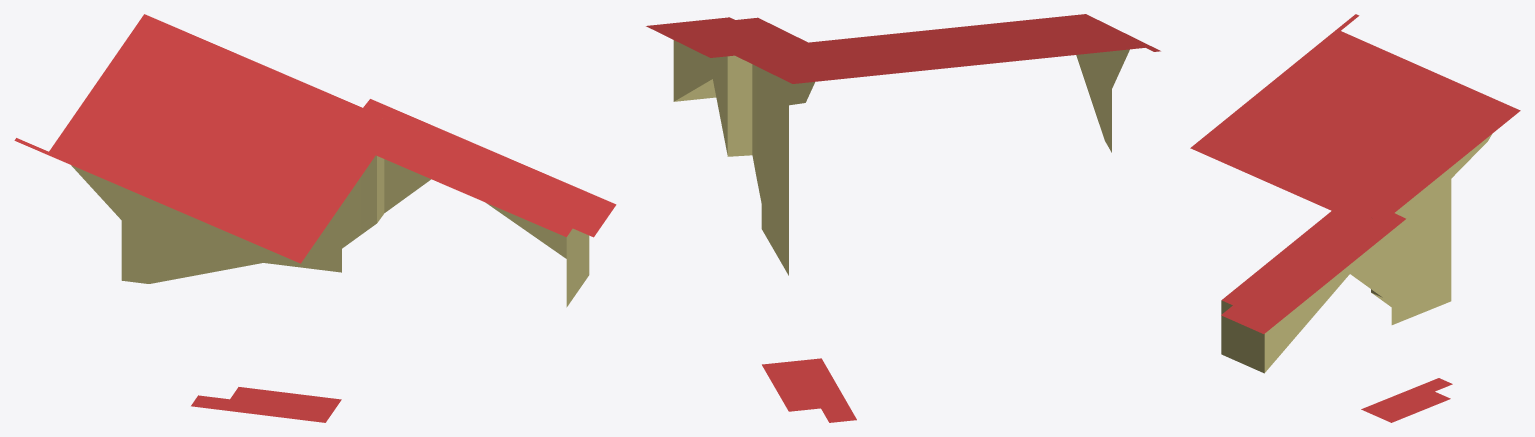
The picture shows the model from 3 angles, left to right: view 1: azimuth 30°, elevation 25°; view 2: azimuth 150°, elevation 25°; view 3: azimuth 270°, elevation 25°; orthographic projection. The views are drawn at different scales.
Bounding box in the file's own units: 21.42 × 14.73 × 13.64.
